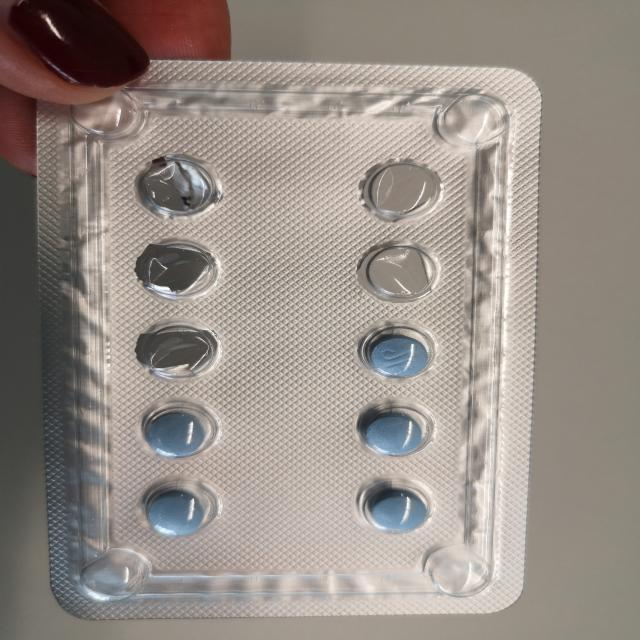Empty: (114, 148, 236, 226), (343, 151, 453, 229), (351, 236, 451, 313), (128, 315, 231, 389), (127, 236, 235, 303)
Pill: (119, 474, 249, 546), (122, 394, 244, 468), (347, 399, 456, 466), (346, 474, 452, 540), (351, 322, 452, 388)
